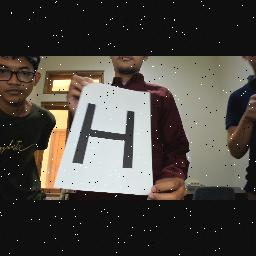h: (68, 100, 144, 182)
